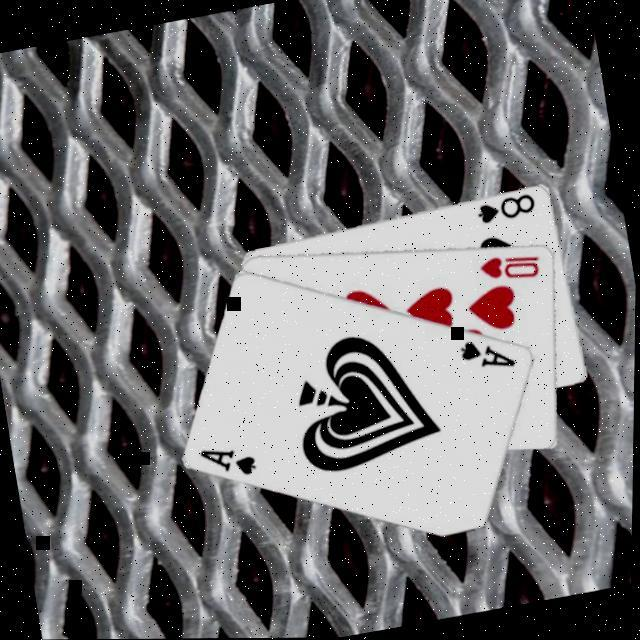10H: (475, 247, 545, 290)
8S: (471, 191, 539, 228)
AS: (196, 438, 263, 486), (455, 331, 520, 378)
